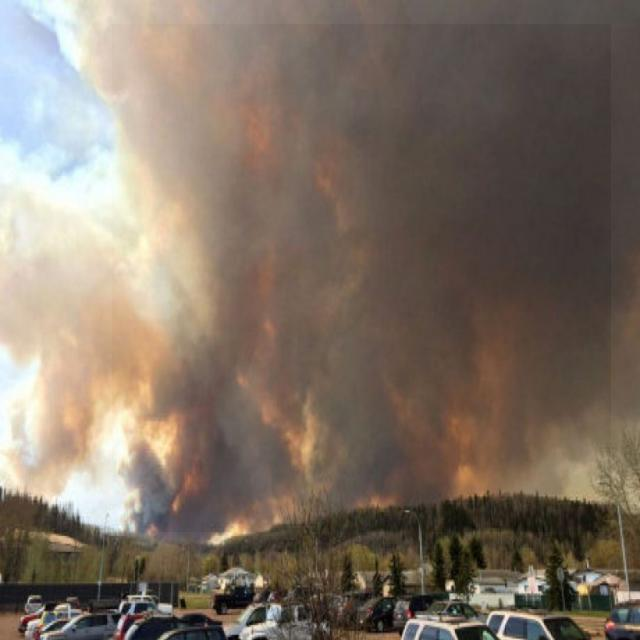Smoke: (112, 25, 611, 532)
